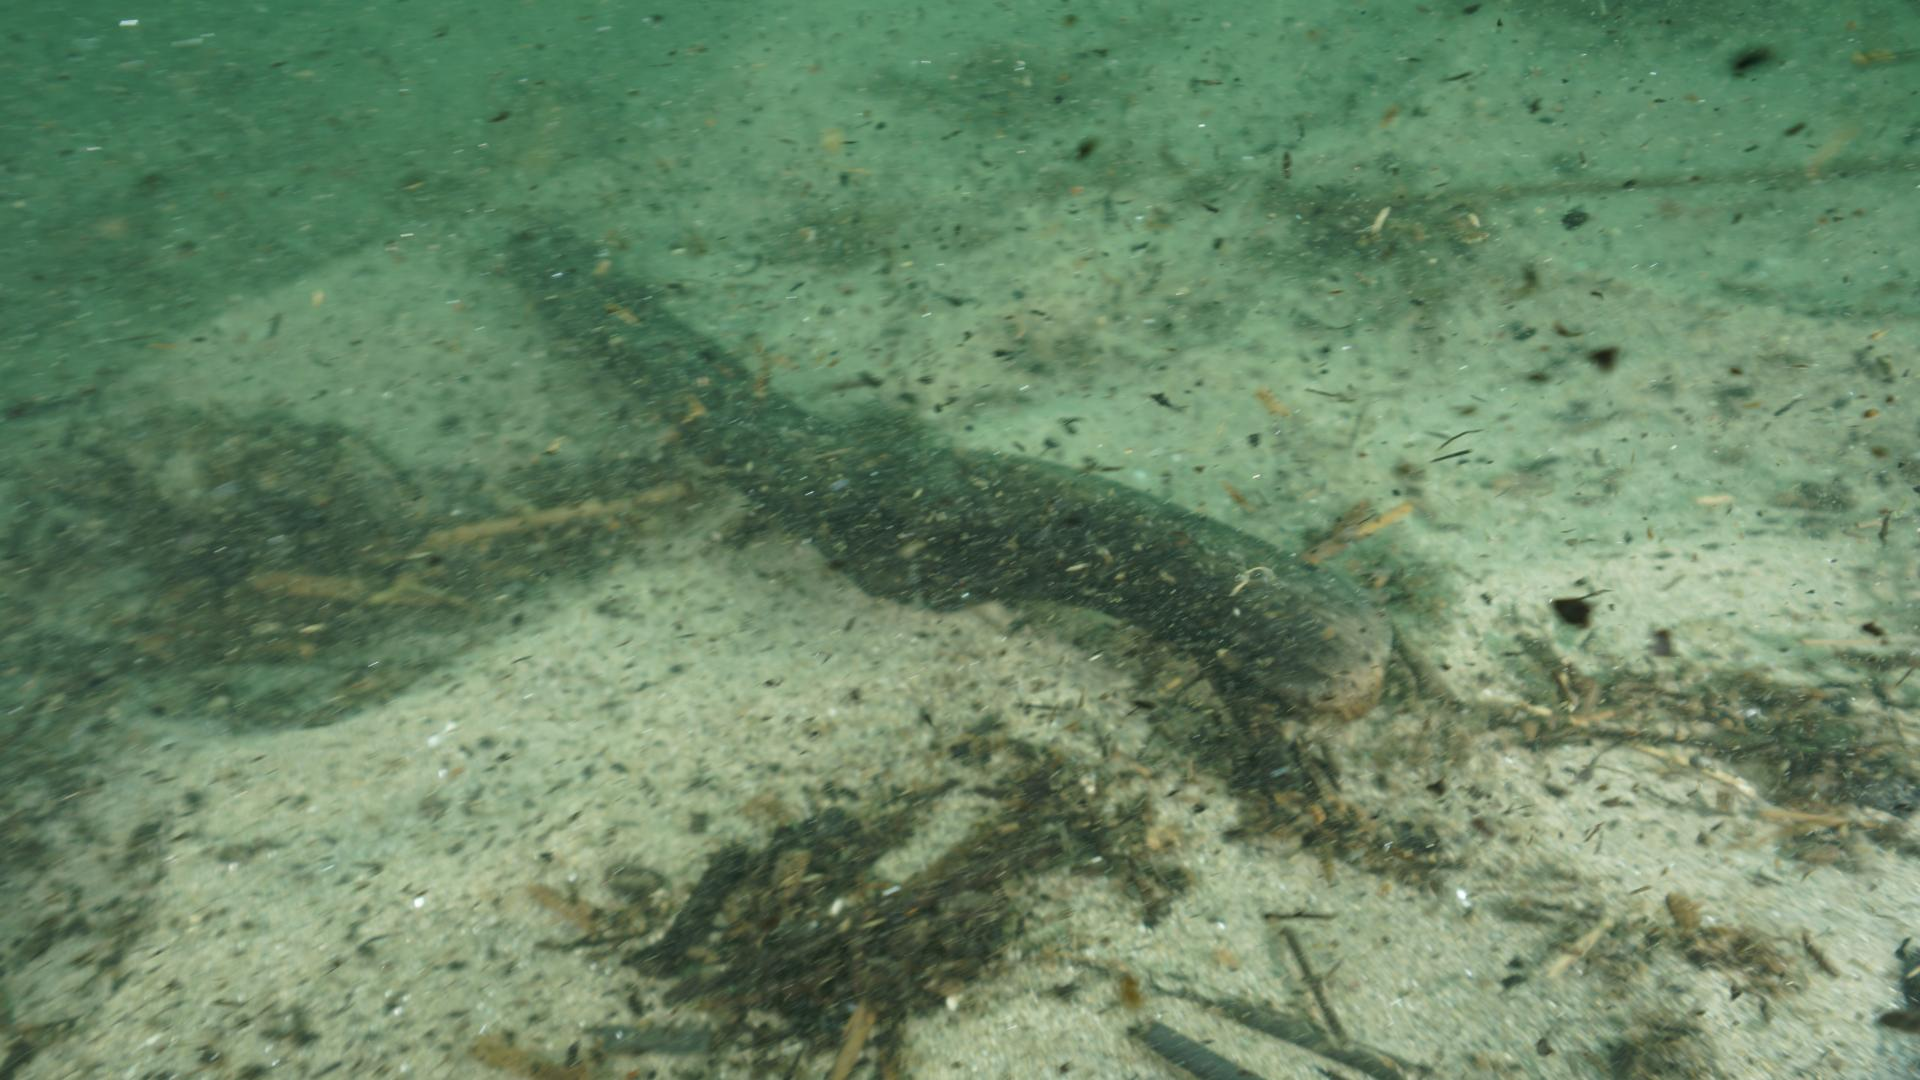wood: (508, 227, 1393, 717)
